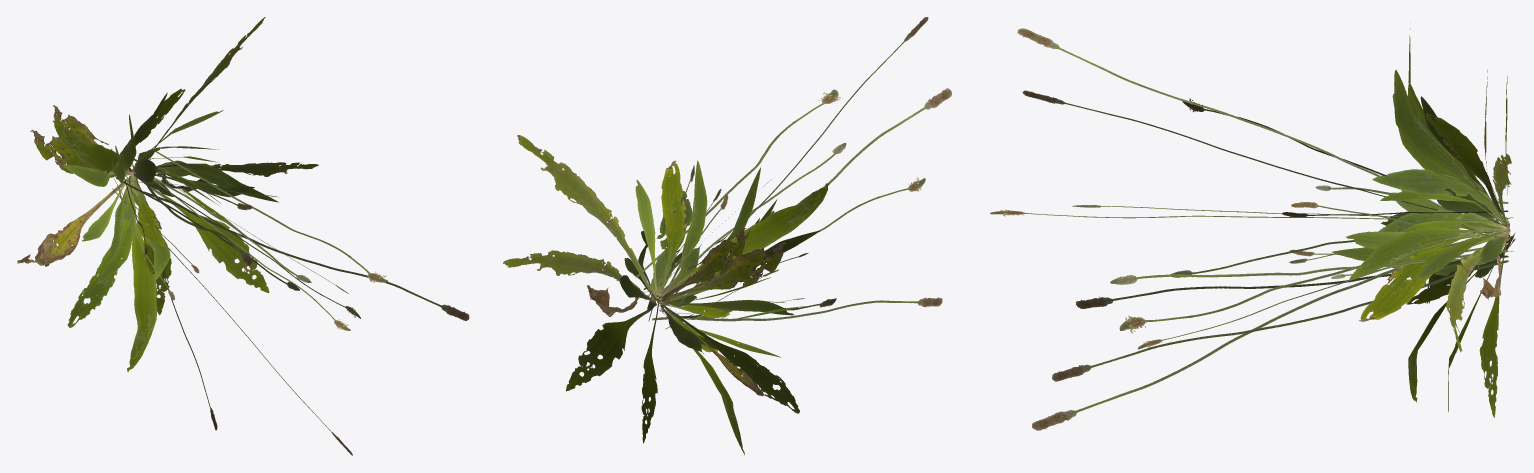
The model's file is Weed_04_Var1_LOD2.fbx.
The picture shows the model from 3 angles, left to right: view 1: azimuth 30°, elevation 25°; view 2: azimuth 150°, elevation 25°; view 3: azimuth 270°, elevation 25°; orthographic projection. The views are drawn at different scales.
Parts seen in each view (by area): view 1: Var1_LOD2; view 2: Var1_LOD2; view 3: Var1_LOD2.
Part boxes in pixels (x1,y1,x2,y2): Var1_LOD2: (17,17,469,455); Var1_LOD2: (503,17,951,454); Var1_LOD2: (990,22,1515,430).
Size of the model in its own units: 44.9 by 43.91 by 57.07.
